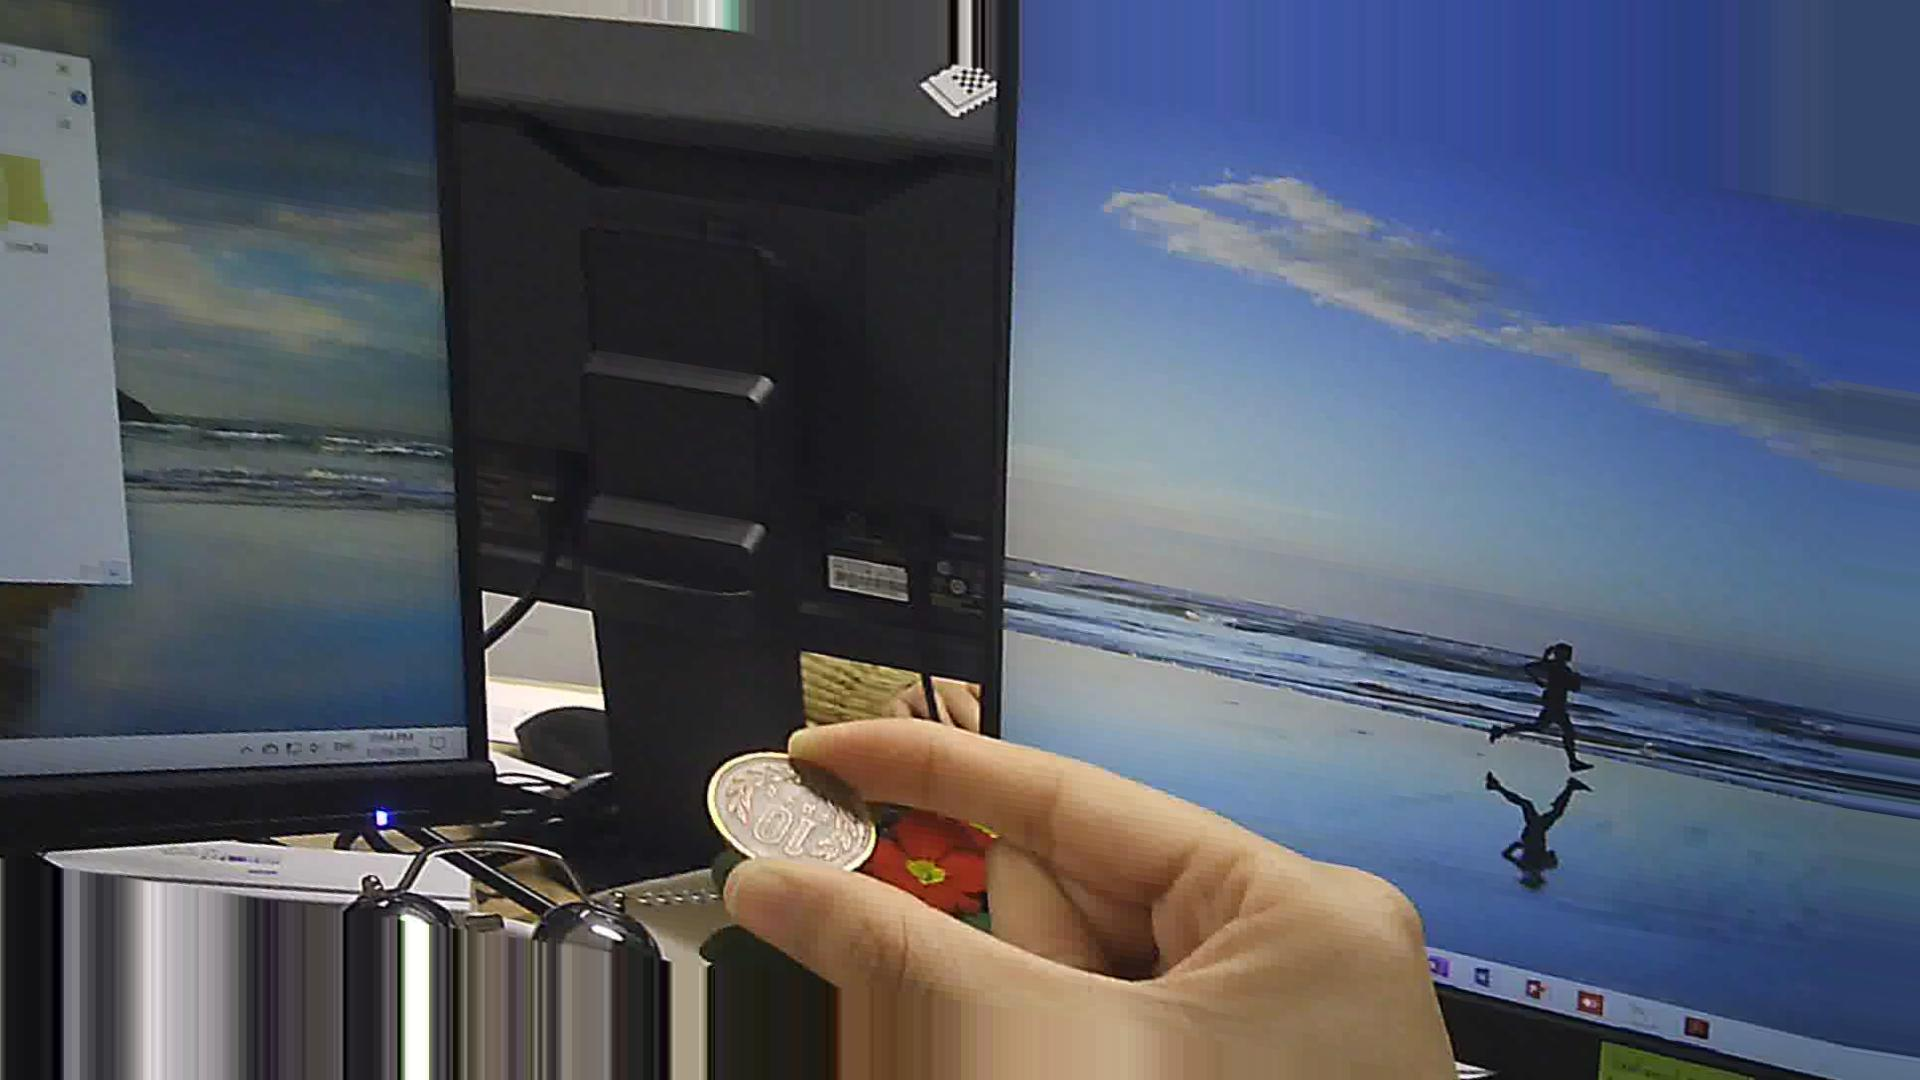10 Yen: (703, 742, 897, 887)
